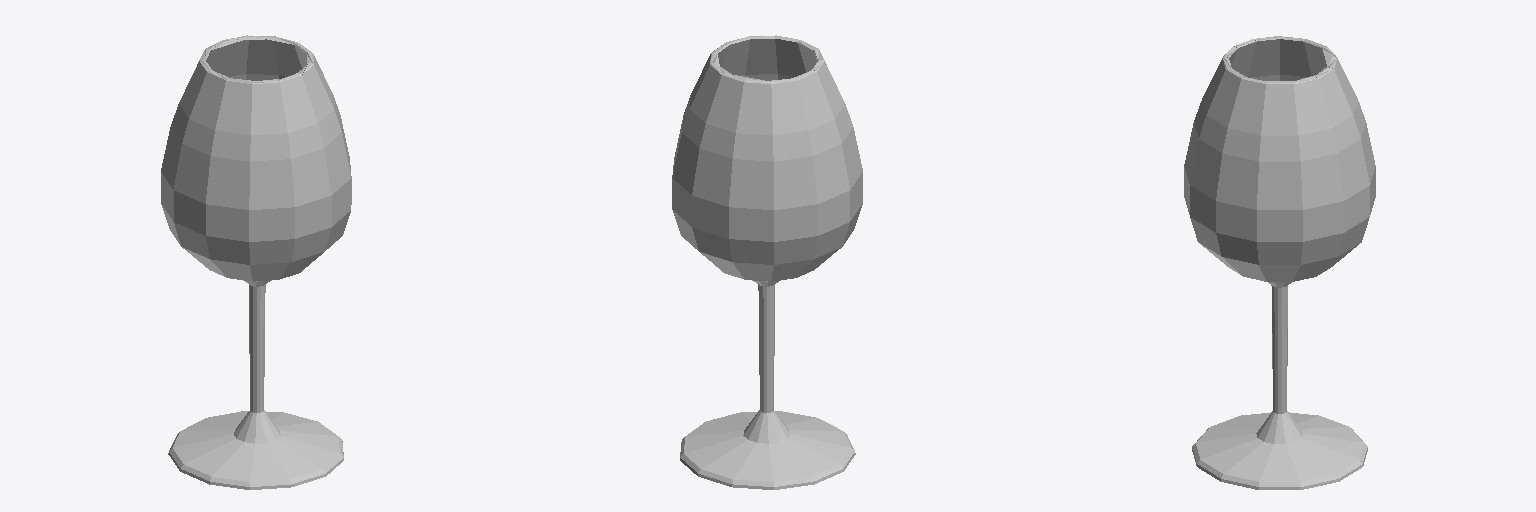
Rendered from wine_glass_.obj.
3 views of the same model, side by side, from view 1: azimuth 30°, elevation 25°; view 2: azimuth 150°, elevation 25°; view 3: azimuth 270°, elevation 25° (orthographic).
Parts seen in each view (by area): view 1: wine_glass_; view 2: wine_glass_; view 3: wine_glass_.
Part boxes in pixels (x1,y1,x2,y2): wine_glass_: (161,35,351,489); wine_glass_: (672,35,862,489); wine_glass_: (1184,36,1375,489).
Size of the model in its own units: 0.0753 by 0.1722 by 0.0758.